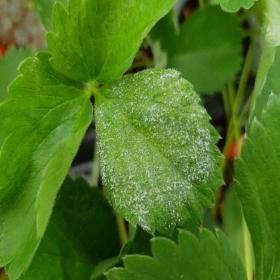Powdery Mildew Leaf: (94, 67, 226, 236), (245, 0, 279, 139)
